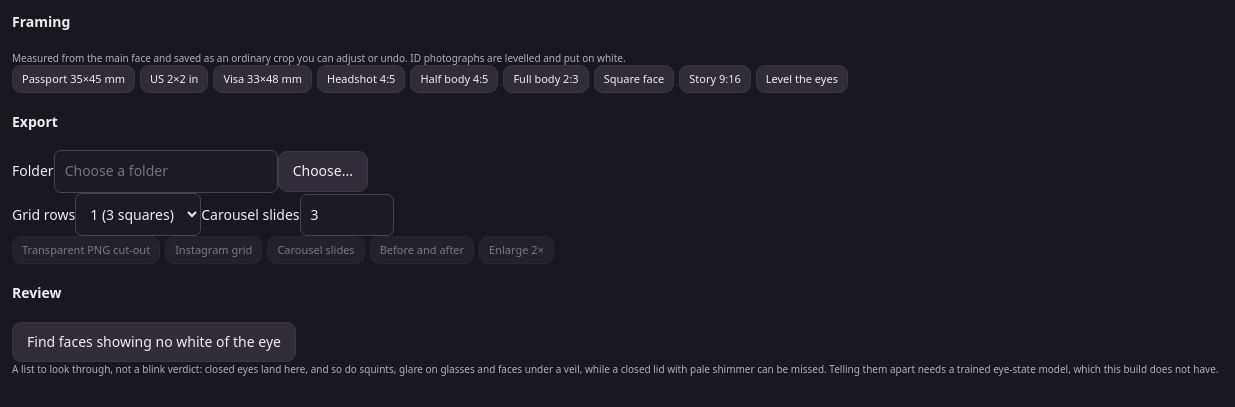
it: a framing preset is saved through the editor and its reasons are shown
Step 1. Click the button "Passport 35×45 mm" → (74, 79), box x1=12 y1=65 x2=135 y2=93
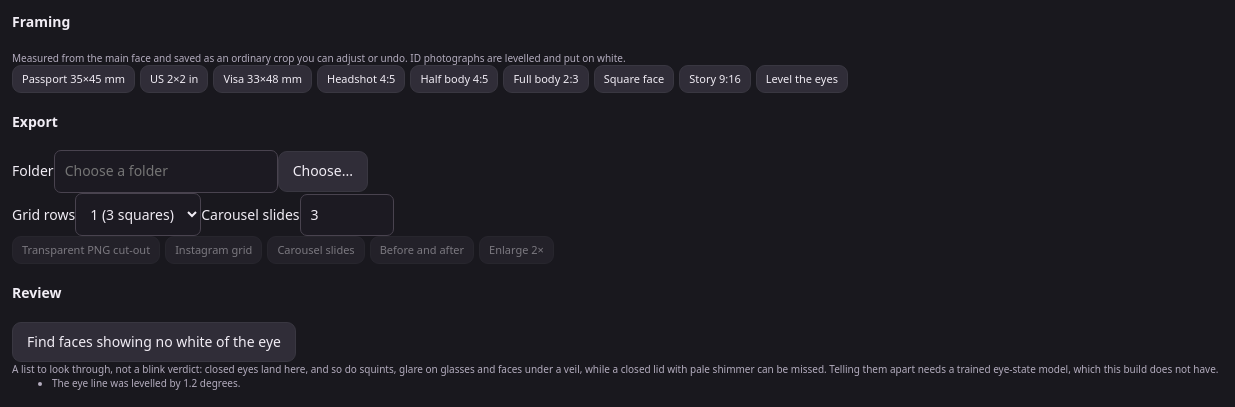
Expected: the list item "The eye line was levelled by 1.2 degrees." is shown, x1=52 y1=376 x2=240 y2=390
